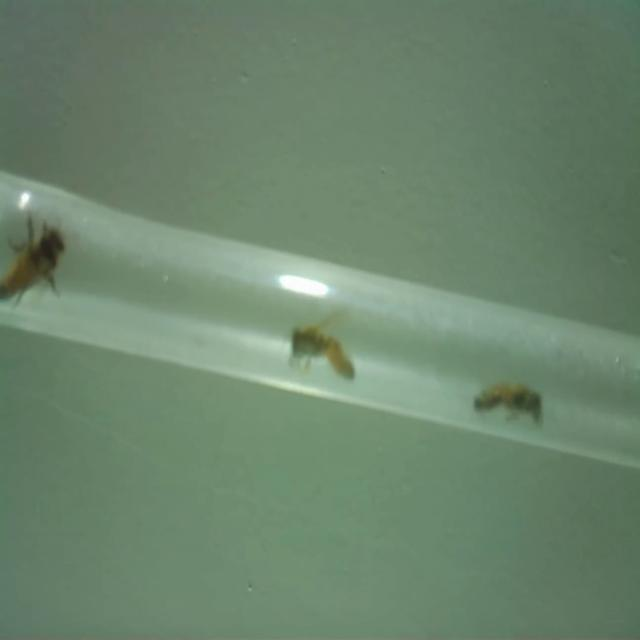Honeybee-Detection: (0, 211, 67, 306), (289, 311, 356, 381), (473, 367, 544, 428)
